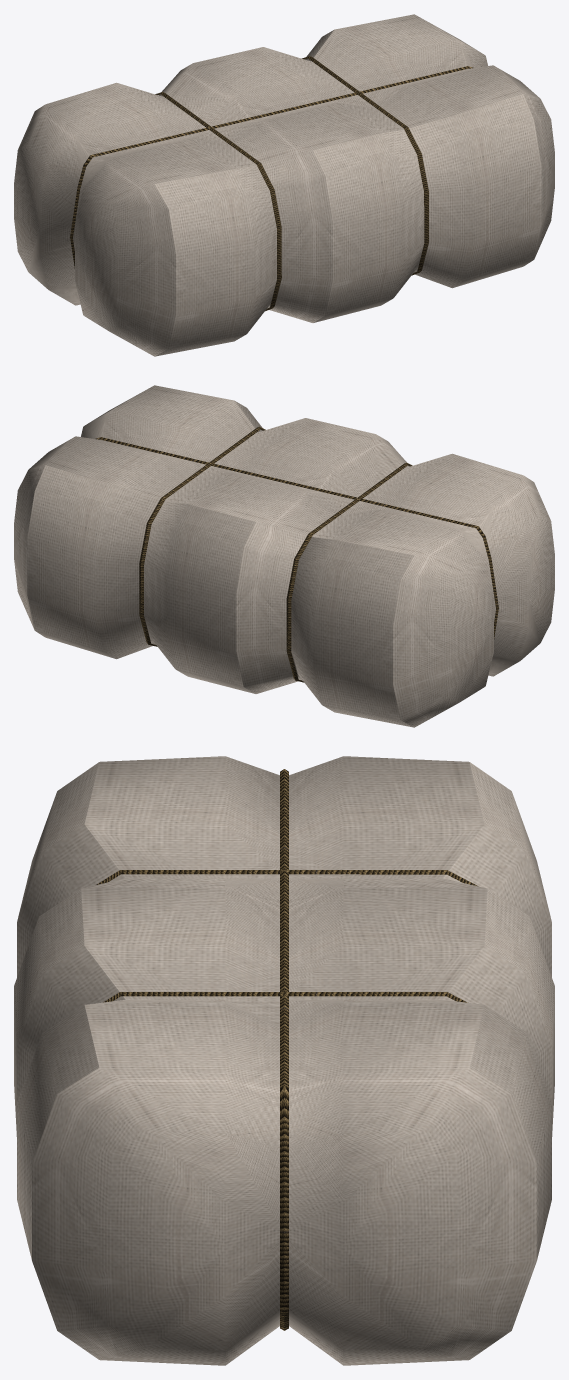
The model's file is Bale.FBX.
3 views of the same model, one above another, from view 1: azimuth 30°, elevation 25°; view 2: azimuth 150°, elevation 25°; view 3: azimuth 270°, elevation 25° (orthographic). The views are drawn at different scales.
Parts seen in each view (by area): view 1: Bale_LOD0; view 2: Bale_LOD0; view 3: Bale_LOD0.
Part boxes in pixels (left/top/right/bottom): Bale_LOD0: left=14, top=14, right=554, bottom=356; Bale_LOD0: left=14, top=385, right=554, bottom=727; Bale_LOD0: left=14, top=756, right=554, bottom=1365.
Size of what is drawn, in the model's own units: 65 by 23.62 by 39.57.
